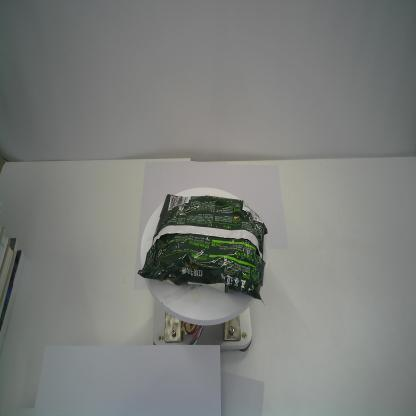Instant Noodles: (136, 191, 269, 308)
